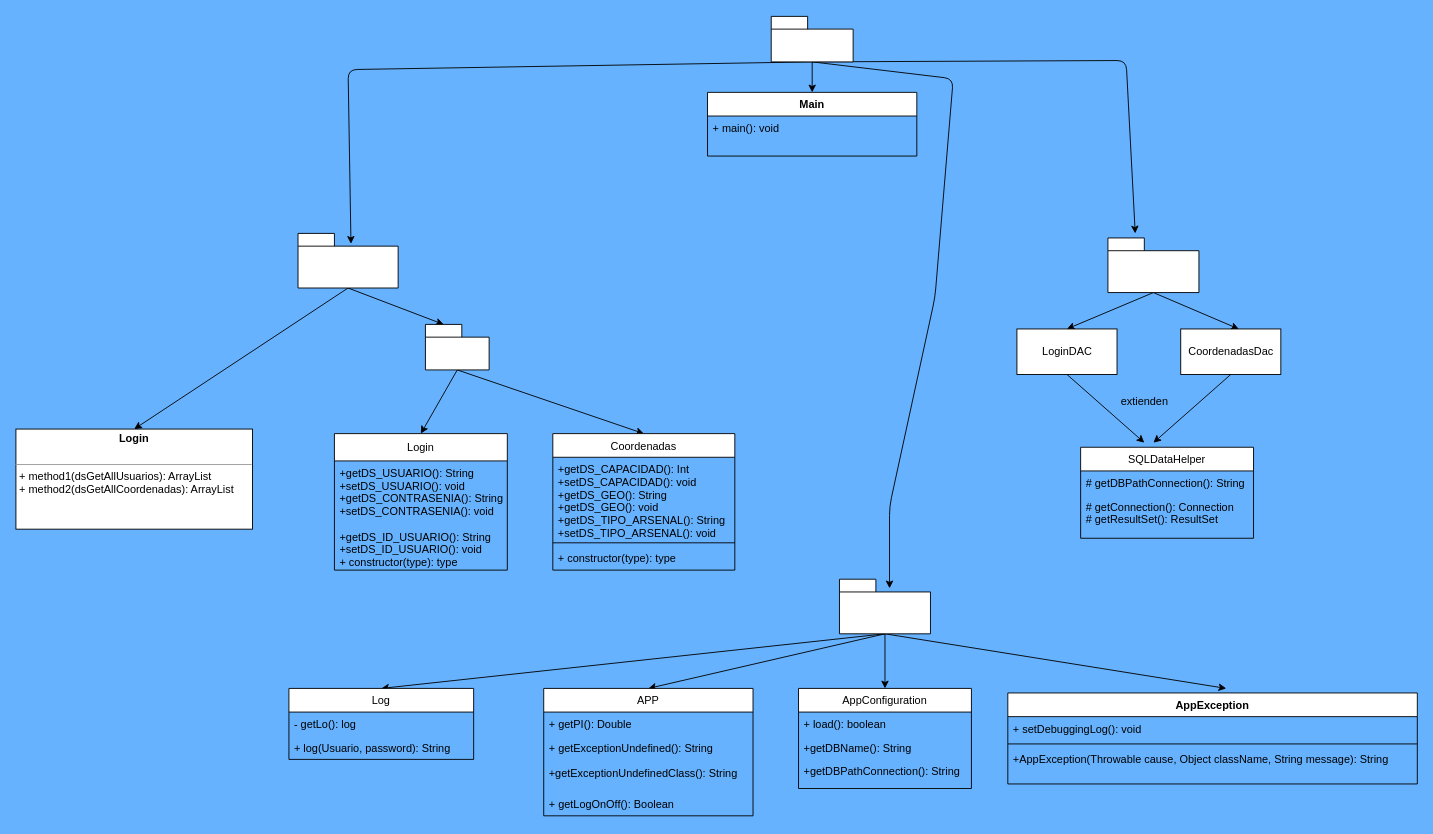
Some shapes in this 1433 by 834 pixel diagram are drawn without their labels. Here are the shapes that lost their labels. From the top down, the centre of each, then its label:
At point (811, 38): "Examen".
At point (347, 260): "BusinessLogic".
At point (1153, 265): "DataAccess".
At point (457, 347): "Entities".
At point (884, 606): "Framework".
